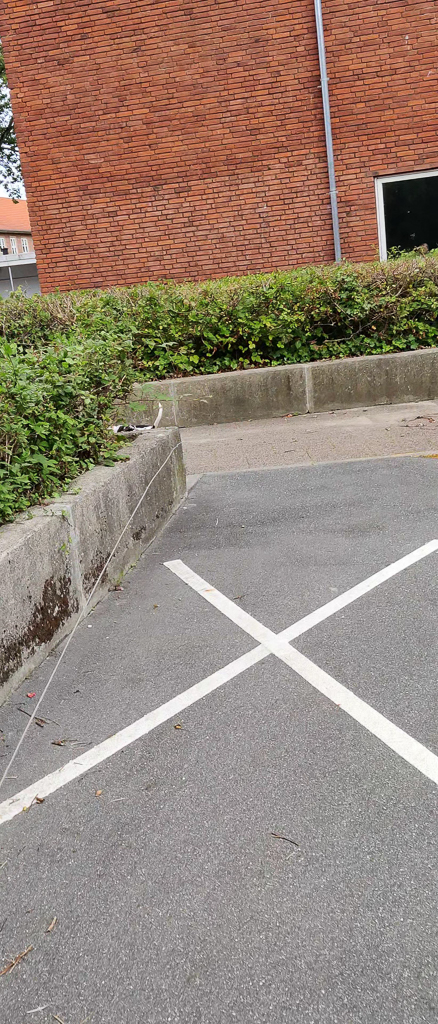Dog: (107, 400, 170, 440)
